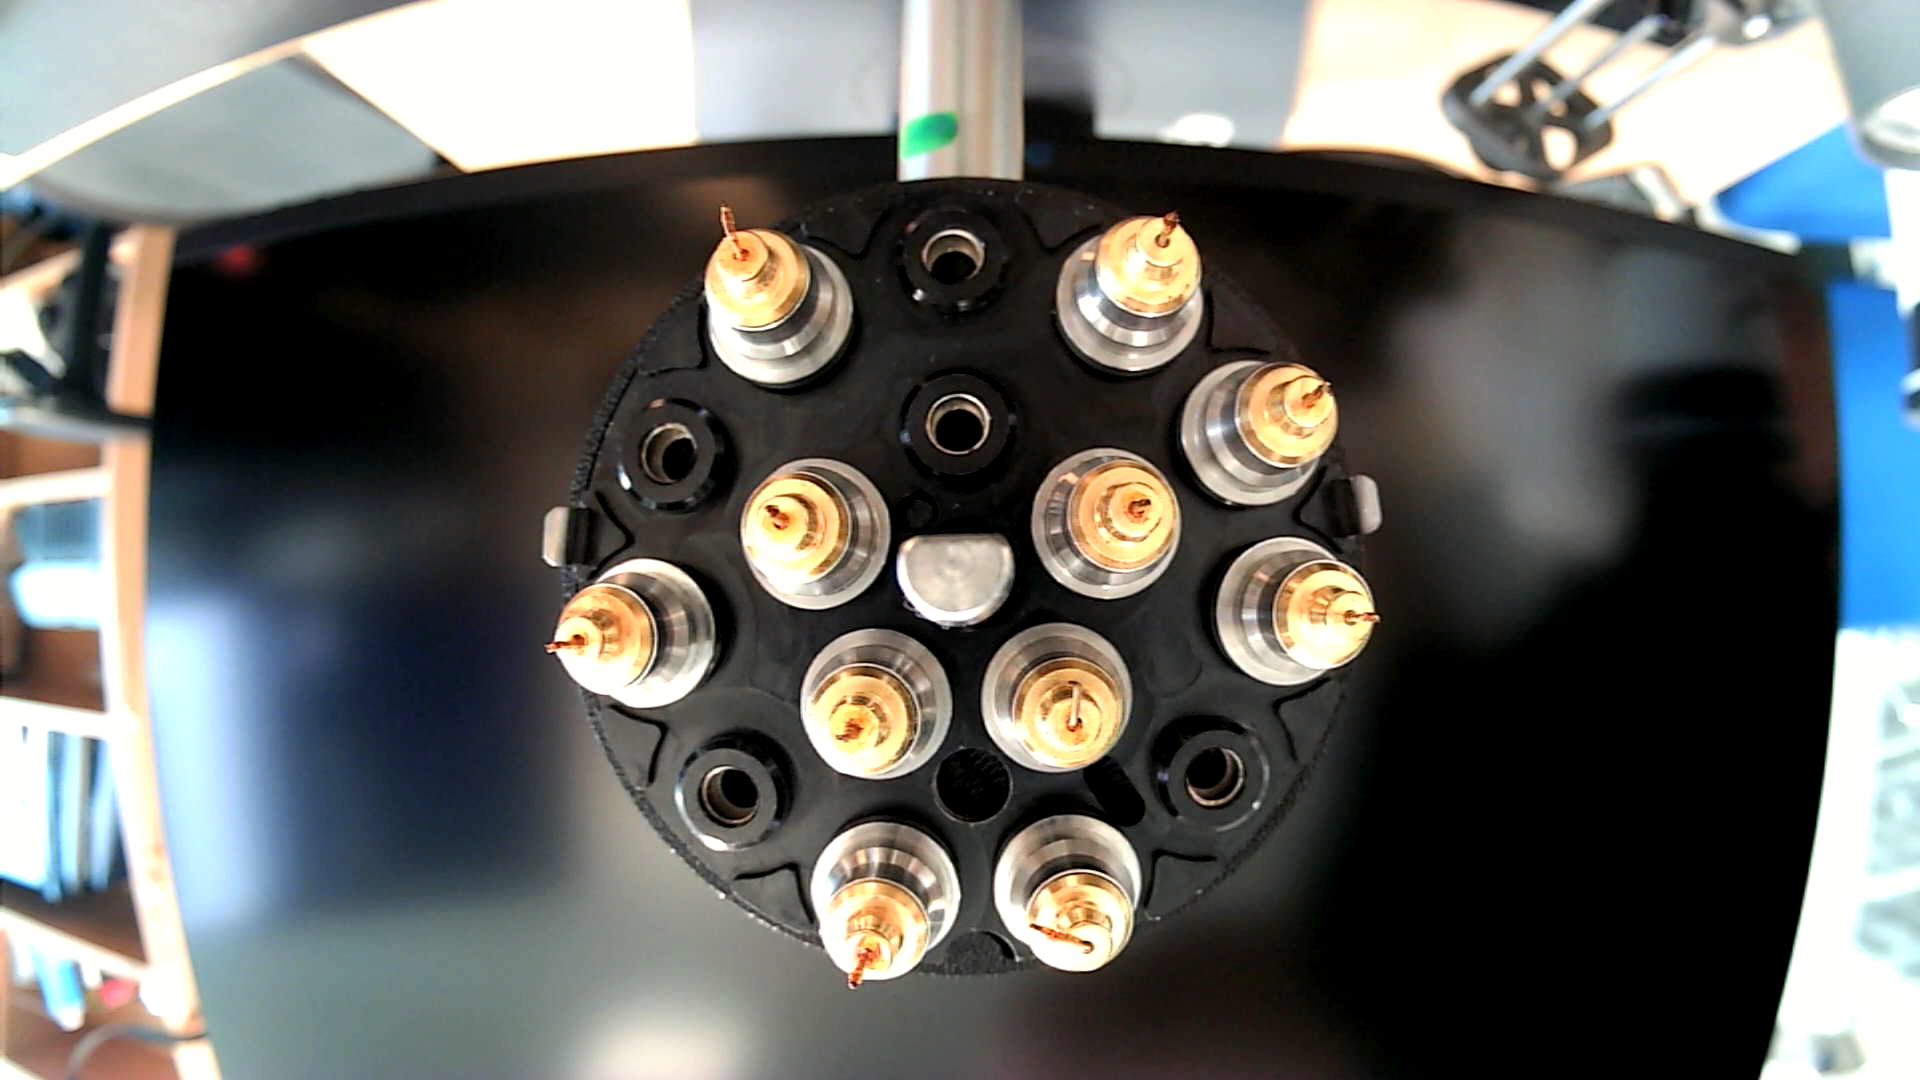bent: (992, 811, 1150, 981), (980, 617, 1138, 781)
empty: (889, 361, 1027, 492), (667, 725, 799, 861), (611, 394, 745, 525), (1145, 707, 1274, 837), (885, 202, 1021, 320)
hole: (932, 742, 1014, 829)
pin: (700, 199, 857, 392), (541, 553, 725, 711), (807, 814, 963, 992), (1205, 533, 1377, 690), (1055, 208, 1207, 380), (796, 625, 956, 782), (1029, 446, 1183, 605), (1178, 359, 1337, 513), (738, 455, 894, 611)
rod: (897, 527, 1019, 630)
